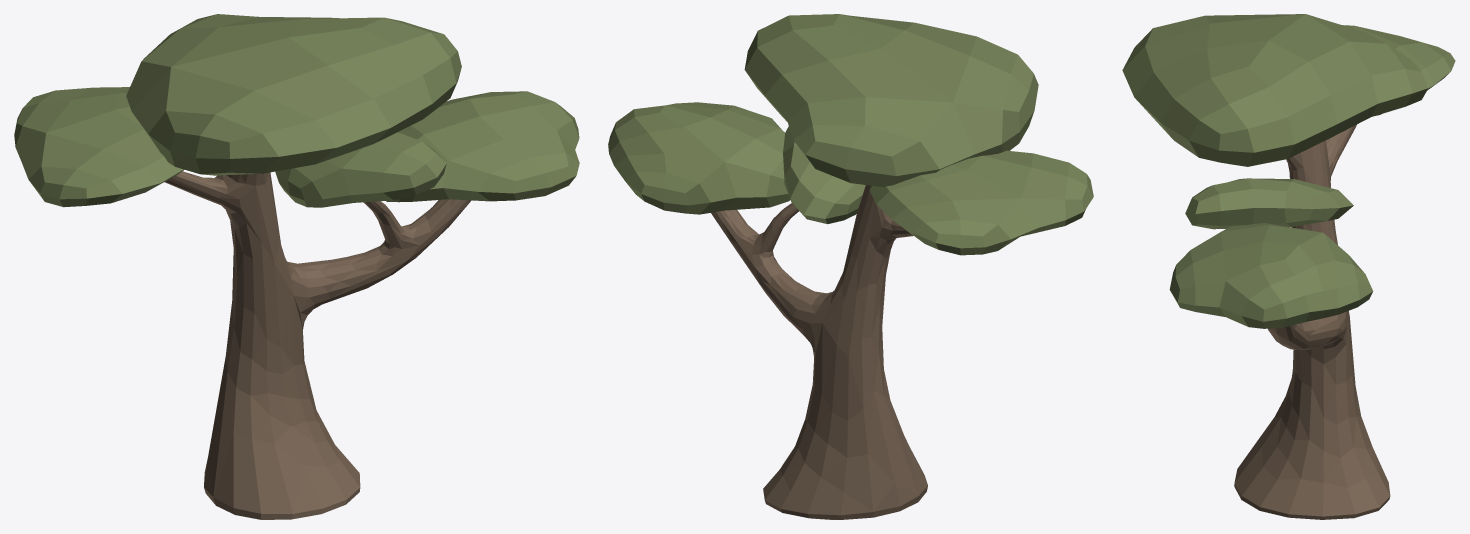
The model's file is tree-3.fbx.
3 views of the same model, side by side, from view 1: azimuth 30°, elevation 25°; view 2: azimuth 150°, elevation 25°; view 3: azimuth 270°, elevation 25° (orthographic). The views are drawn at different scales.
Visible parts, largest first — view 1: Cube.019, Cube.005, Cube.021, Cube.020, Cube.022; view 2: Cube.019, Cube.005, Cube.021, Cube.020, Cube.022; view 3: Cube.019, Cube.005, Cube.021, Cube.022, Cube.020.
Boxes of the visible parts, x1=… form: Cube.019: x1=126, y1=14, x2=461, y2=175; Cube.005: x1=164, y1=171, x2=471, y2=519; Cube.021: x1=386, y1=91, x2=579, y2=202; Cube.020: x1=14, y1=87, x2=184, y2=207; Cube.022: x1=275, y1=132, x2=446, y2=207; Cube.019: x1=744, y1=14, x2=1038, y2=187; Cube.005: x1=711, y1=185, x2=927, y2=519; Cube.021: x1=608, y1=102, x2=790, y2=214; Cube.020: x1=869, y1=150, x2=1093, y2=255; Cube.022: x1=783, y1=126, x2=865, y2=224; Cube.019: x1=1122, y1=14, x2=1428, y2=166; Cube.005: x1=1234, y1=124, x2=1390, y2=519; Cube.021: x1=1169, y1=223, x2=1373, y2=328; Cube.022: x1=1185, y1=178, x2=1353, y2=229; Cube.020: x1=1342, y1=25, x2=1455, y2=115.
Bounding box in the file's own units: 1949 × 1694 × 1145.
